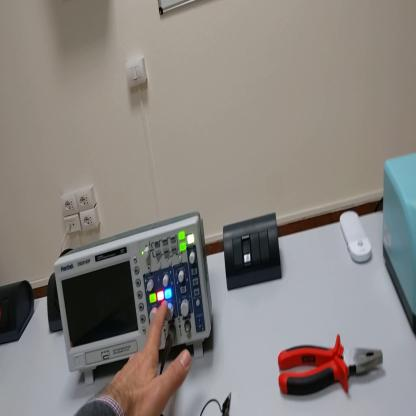hand: (105, 301, 191, 415)
oscilloscope: (56, 209, 214, 386)
oscilloscope probe tip: (226, 404, 231, 414)
pliers: (279, 334, 382, 404)
socket: (3, 277, 37, 345), (47, 273, 63, 335)
welder station: (379, 153, 416, 341)
